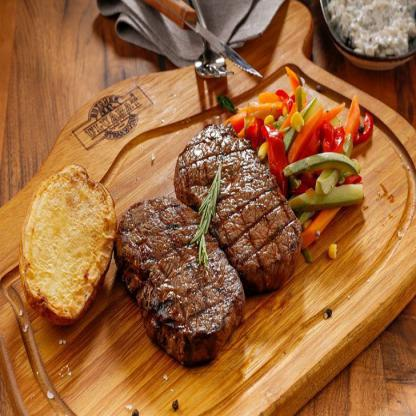beef: (126, 185, 235, 356), (186, 128, 293, 283)
